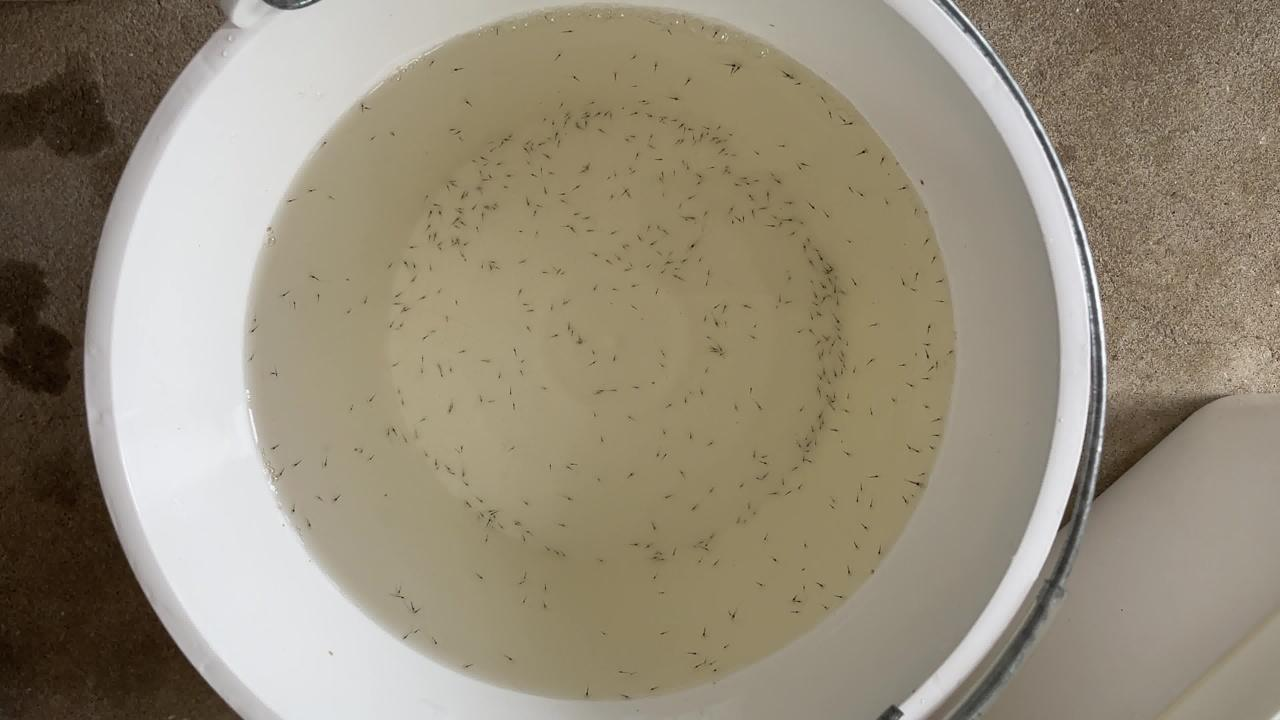shrimp: (684, 75, 696, 83), (649, 65, 661, 73), (627, 51, 639, 59), (631, 81, 643, 89), (672, 93, 684, 101), (634, 96, 646, 104), (645, 97, 657, 105), (643, 112, 655, 120), (631, 108, 643, 116), (619, 103, 631, 111), (605, 112, 617, 120), (603, 107, 615, 115), (595, 109, 607, 117), (588, 97, 600, 105), (580, 106, 592, 114), (582, 109, 594, 117), (582, 118, 594, 126), (596, 125, 608, 133), (575, 122, 587, 130), (565, 115, 577, 123), (564, 109, 576, 117), (559, 99, 571, 107), (562, 120, 574, 128), (548, 118, 560, 126), (540, 113, 552, 121), (551, 127, 563, 135), (554, 138, 566, 146), (545, 133, 557, 141), (538, 140, 550, 148), (540, 152, 552, 160), (529, 141, 541, 149), (521, 146, 533, 154), (523, 134, 535, 142), (506, 129, 518, 137), (502, 133, 514, 141), (500, 135, 512, 143), (487, 143, 499, 151), (492, 156, 504, 164), (502, 170, 514, 178), (501, 181, 513, 189), (483, 176, 495, 184), (487, 173, 499, 181), (477, 167, 489, 175), (483, 161, 495, 169), (482, 153, 494, 161), (470, 158, 482, 166), (523, 156, 535, 164), (536, 165, 548, 173), (545, 166, 557, 174), (529, 168, 541, 176), (541, 183, 553, 191), (536, 200, 548, 208), (533, 208, 545, 216), (524, 198, 536, 206), (581, 164, 593, 172), (577, 182, 589, 190), (560, 187, 572, 195), (559, 196, 571, 204), (570, 208, 582, 216), (581, 213, 593, 221), (584, 227, 596, 235), (570, 227, 582, 235), (565, 221, 577, 229), (534, 227, 546, 235), (514, 226, 526, 234), (494, 199, 506, 207), (491, 204, 503, 212), (486, 203, 498, 211), (476, 182, 488, 190), (465, 189, 477, 197), (460, 190, 472, 198), (451, 183, 463, 191), (451, 174, 463, 182), (442, 183, 454, 191), (469, 201, 481, 209), (478, 209, 490, 217), (474, 224, 486, 232), (458, 203, 470, 211), (455, 205, 467, 213), (453, 212, 465, 220), (461, 216, 473, 224), (454, 221, 466, 229), (433, 198, 445, 206), (436, 208, 448, 216), (422, 191, 434, 199), (425, 208, 437, 216), (423, 219, 435, 227), (423, 230, 435, 238), (430, 228, 442, 236), (434, 245, 446, 253), (434, 238, 446, 246), (463, 238, 475, 246), (454, 239, 466, 247), (454, 232, 466, 240), (449, 233, 461, 241), (455, 250, 467, 258), (519, 255, 531, 263), (490, 255, 502, 263), (496, 262, 508, 270), (488, 263, 500, 271), (476, 259, 488, 267), (611, 71, 623, 79), (571, 73, 583, 81), (554, 52, 566, 60), (565, 28, 577, 36), (651, 17, 663, 25), (664, 26, 676, 34), (711, 28, 723, 36), (697, 22, 709, 30), (681, 14, 693, 22), (606, 14, 618, 22), (583, 9, 595, 17), (493, 26, 505, 34), (452, 62, 464, 70), (463, 100, 475, 108), (455, 135, 467, 143), (456, 131, 468, 139), (451, 125, 463, 133), (426, 58, 438, 66), (358, 99, 370, 107), (364, 104, 376, 112), (387, 131, 399, 139), (369, 136, 381, 144), (320, 139, 332, 147), (662, 108, 674, 116), (660, 113, 672, 121), (670, 115, 682, 123), (674, 119, 686, 127), (678, 123, 690, 131), (687, 124, 699, 132), (700, 119, 712, 127), (714, 123, 726, 131), (727, 129, 739, 137), (730, 153, 742, 161), (723, 152, 735, 160), (719, 148, 731, 156), (714, 139, 726, 147), (714, 135, 726, 143), (695, 132, 707, 140), (678, 136, 690, 144), (674, 135, 686, 143), (646, 129, 658, 137), (628, 130, 640, 138), (623, 134, 635, 142), (644, 140, 656, 148), (630, 149, 642, 157), (654, 153, 666, 161), (632, 167, 644, 175), (627, 162, 639, 170), (615, 169, 627, 177), (603, 173, 615, 181), (620, 185, 632, 193), (623, 189, 635, 197), (605, 189, 617, 197), (658, 167, 670, 175), (658, 174, 670, 182), (677, 155, 689, 163), (681, 163, 693, 171), (692, 170, 704, 178), (696, 178, 708, 186), (668, 168, 680, 176), (686, 191, 698, 199), (700, 207, 712, 215), (675, 198, 687, 206), (689, 212, 701, 220), (681, 211, 693, 219), (686, 240, 698, 248), (694, 253, 706, 261), (703, 264, 715, 272), (705, 276, 717, 284), (686, 254, 698, 262), (751, 146, 763, 154), (775, 138, 787, 146), (804, 160, 816, 168), (792, 161, 804, 169), (776, 177, 788, 185), (766, 165, 778, 173), (752, 175, 764, 183), (738, 173, 750, 181), (724, 168, 736, 176), (723, 160, 735, 168), (708, 164, 720, 172), (731, 182, 743, 190), (744, 193, 756, 201), (762, 190, 774, 198), (759, 201, 771, 209), (749, 206, 761, 214), (739, 211, 751, 219), (735, 213, 747, 221), (728, 217, 740, 225), (724, 203, 736, 211), (762, 220, 774, 228), (768, 212, 780, 220), (783, 197, 795, 205), (803, 199, 815, 207), (823, 211, 835, 219), (800, 216, 812, 224), (789, 214, 801, 222), (776, 218, 788, 226), (787, 227, 799, 235), (803, 233, 815, 241), (795, 242, 807, 250), (812, 244, 824, 252), (816, 252, 828, 260), (809, 255, 821, 263), (828, 261, 840, 269), (819, 266, 831, 274), (842, 233, 854, 241), (851, 276, 863, 284), (823, 275, 835, 283), (829, 284, 841, 292), (837, 291, 849, 299), (817, 280, 829, 288), (803, 276, 815, 284), (809, 288, 821, 296), (819, 297, 831, 305), (834, 298, 846, 306), (809, 297, 821, 305), (814, 310, 826, 318), (805, 310, 817, 318), (835, 312, 847, 320), (833, 322, 845, 330), (832, 332, 844, 340), (839, 337, 851, 345), (828, 336, 840, 344), (820, 332, 832, 340), (811, 327, 823, 335), (796, 326, 808, 334), (810, 338, 822, 346), (843, 350, 855, 358), (836, 354, 848, 362), (849, 365, 861, 373), (864, 357, 876, 365), (825, 348, 837, 356), (817, 347, 829, 355), (811, 350, 823, 358), (827, 364, 839, 372), (817, 362, 829, 370), (814, 369, 826, 377), (825, 377, 837, 385), (865, 407, 877, 415), (846, 392, 858, 400), (844, 404, 856, 412), (829, 400, 841, 408), (830, 389, 842, 397), (824, 390, 836, 398), (814, 386, 826, 394), (814, 407, 826, 415), (800, 406, 812, 414), (816, 415, 828, 423), (815, 421, 827, 429), (826, 425, 838, 433), (781, 274, 793, 282), (782, 297, 794, 305), (774, 293, 786, 301), (774, 302, 786, 310), (742, 301, 754, 309), (755, 321, 767, 329), (751, 331, 763, 339), (721, 319, 733, 327), (720, 304, 732, 312), (714, 298, 726, 306), (712, 316, 724, 324), (700, 312, 712, 320), (678, 273, 690, 281), (675, 264, 687, 272), (680, 254, 692, 262), (664, 259, 676, 267), (661, 265, 673, 273), (654, 284, 666, 292), (661, 227, 673, 235), (656, 224, 668, 232), (645, 221, 657, 229), (649, 238, 661, 246), (657, 248, 669, 256), (635, 233, 647, 241), (643, 258, 655, 266), (624, 238, 636, 246), (620, 241, 632, 249), (608, 225, 620, 233), (615, 253, 627, 261), (625, 257, 637, 265), (623, 263, 635, 271), (602, 257, 614, 265), (593, 248, 605, 256), (627, 283, 639, 291), (628, 301, 640, 309), (612, 287, 624, 295), (591, 284, 603, 292), (561, 269, 573, 277), (554, 265, 566, 273), (547, 260, 559, 268), (540, 267, 552, 275), (565, 298, 577, 306), (547, 303, 559, 311), (528, 306, 540, 314), (521, 297, 533, 305), (517, 289, 529, 297), (562, 319, 574, 327), (567, 325, 579, 333), (574, 336, 586, 344), (552, 331, 564, 339), (525, 323, 537, 331), (511, 346, 523, 354), (516, 356, 528, 364), (517, 367, 529, 375), (538, 382, 550, 390), (589, 349, 601, 357), (589, 359, 601, 367), (612, 354, 624, 362), (658, 350, 670, 358), (660, 358, 672, 366), (651, 380, 663, 388), (634, 384, 646, 392), (606, 386, 618, 394), (600, 385, 612, 393), (595, 387, 607, 395), (590, 408, 602, 416), (625, 415, 637, 423), (597, 434, 609, 442), (705, 333, 717, 341), (716, 341, 728, 349), (720, 350, 732, 358), (712, 342, 724, 350), (711, 348, 723, 356), (701, 366, 713, 374), (696, 390, 708, 398), (679, 397, 691, 405), (665, 401, 677, 409), (748, 386, 760, 394), (755, 404, 767, 412), (733, 405, 745, 413), (708, 441, 720, 449), (687, 430, 699, 438), (660, 427, 672, 435), (650, 448, 662, 456), (661, 452, 673, 460), (675, 467, 687, 475), (708, 484, 720, 492), (693, 502, 705, 510), (666, 492, 678, 500), (628, 470, 640, 478), (748, 447, 760, 455), (763, 452, 775, 460), (760, 459, 772, 467), (759, 468, 771, 476), (755, 476, 767, 484), (740, 481, 752, 489), (807, 422, 819, 430), (815, 437, 827, 445), (806, 438, 818, 446), (802, 429, 814, 437), (794, 439, 806, 447), (804, 443, 816, 451), (807, 456, 819, 464), (799, 454, 811, 462), (791, 464, 803, 472), (795, 481, 807, 489), (783, 490, 795, 498), (781, 475, 793, 483), (771, 486, 783, 494), (747, 501, 759, 509), (752, 508, 764, 516), (745, 516, 757, 524), (736, 515, 748, 523), (763, 533, 775, 541), (773, 554, 785, 562), (752, 581, 764, 589), (710, 530, 722, 538), (697, 535, 709, 543), (705, 539, 717, 547), (705, 544, 717, 552), (699, 557, 711, 565), (714, 559, 726, 567), (658, 589, 670, 597), (651, 573, 663, 581), (668, 548, 680, 556), (660, 556, 672, 564), (648, 556, 660, 564), (656, 547, 668, 555), (642, 541, 654, 549), (652, 521, 664, 529), (631, 542, 643, 550), (594, 474, 606, 482), (569, 455, 581, 463), (566, 462, 578, 470), (549, 462, 561, 470), (564, 494, 576, 502), (559, 521, 571, 529), (599, 560, 611, 568), (562, 551, 574, 559), (556, 550, 568, 558), (545, 545, 557, 553), (542, 580, 554, 588), (541, 601, 553, 609), (521, 597, 533, 605), (515, 582, 527, 590), (520, 571, 532, 579), (519, 536, 531, 544), (522, 528, 534, 536), (521, 498, 533, 506), (512, 514, 524, 522), (511, 520, 523, 528), (496, 522, 508, 530), (482, 534, 494, 542), (484, 517, 496, 525), (491, 505, 503, 513), (484, 500, 496, 508), (491, 511, 503, 519), (479, 510, 491, 518), (470, 493, 482, 501), (466, 501, 478, 509), (508, 445, 520, 453), (509, 401, 521, 409), (505, 385, 517, 393), (495, 371, 507, 379), (481, 359, 493, 367), (451, 298, 463, 306), (432, 285, 444, 293), (422, 261, 434, 269), (410, 240, 422, 248), (407, 259, 419, 267), (400, 256, 412, 264), (384, 256, 396, 264), (407, 273, 419, 281), (415, 293, 427, 301), (437, 316, 449, 324), (454, 350, 466, 358), (474, 390, 486, 398), (485, 395, 497, 403), (445, 363, 457, 371), (434, 360, 446, 368), (436, 367, 448, 375), (445, 401, 457, 409), (415, 366, 427, 374), (419, 353, 431, 361), (419, 331, 431, 339), (428, 324, 440, 332), (407, 302, 419, 310), (400, 303, 412, 311), (393, 299, 405, 307), (394, 288, 406, 296), (397, 321, 409, 329), (386, 319, 398, 327), (389, 361, 401, 369), (395, 384, 407, 392), (396, 399, 408, 407), (417, 414, 429, 422), (411, 428, 423, 436), (403, 434, 415, 442), (390, 425, 402, 433), (383, 428, 395, 436), (367, 390, 379, 398), (457, 439, 469, 447), (452, 443, 464, 451), (460, 468, 472, 476), (463, 477, 475, 485), (450, 471, 462, 479), (444, 464, 456, 472), (435, 464, 447, 472), (434, 458, 446, 466), (423, 449, 435, 457), (365, 453, 377, 461), (355, 449, 367, 457), (350, 444, 362, 452), (321, 458, 333, 466), (331, 495, 343, 503), (314, 496, 326, 504), (305, 520, 317, 528), (288, 506, 300, 514), (291, 459, 303, 467), (270, 471, 282, 479), (271, 443, 283, 451), (348, 401, 360, 409), (271, 367, 283, 375), (246, 354, 258, 362), (250, 329, 262, 337), (250, 315, 262, 323), (277, 291, 289, 299), (288, 298, 300, 306), (313, 295, 325, 303), (345, 309, 357, 317), (356, 298, 368, 306), (348, 274, 360, 282), (309, 271, 321, 279), (325, 195, 337, 203), (309, 183, 321, 191), (286, 194, 298, 202), (725, 57, 737, 65), (725, 62, 737, 70), (731, 63, 743, 71), (783, 71, 795, 79), (796, 78, 808, 86), (817, 95, 829, 103), (824, 110, 836, 118), (835, 112, 847, 120), (847, 120, 859, 128), (858, 150, 870, 158), (874, 154, 886, 162), (896, 186, 908, 194), (878, 198, 890, 206), (862, 193, 874, 201), (848, 185, 860, 193), (910, 206, 922, 214), (921, 235, 933, 243), (928, 254, 940, 262), (935, 278, 947, 286), (935, 297, 947, 305), (912, 270, 924, 278), (912, 284, 924, 292), (899, 274, 911, 282), (869, 320, 881, 328), (923, 325, 935, 333), (923, 338, 935, 346), (919, 349, 931, 357), (944, 349, 956, 357), (937, 359, 949, 367), (927, 363, 939, 371), (900, 359, 912, 367), (921, 371, 933, 379), (905, 380, 917, 388), (889, 398, 901, 406), (922, 402, 934, 410), (933, 417, 945, 425), (934, 430, 946, 438), (930, 443, 942, 451), (912, 446, 924, 454), (902, 440, 914, 448), (920, 469, 932, 477), (912, 480, 924, 488), (898, 498, 910, 506), (872, 472, 884, 480), (843, 447, 855, 455), (870, 500, 882, 508), (856, 495, 868, 503), (855, 482, 867, 490), (831, 494, 843, 502), (830, 502, 842, 510), (859, 520, 871, 528), (879, 549, 891, 557), (852, 542, 864, 550), (843, 568, 855, 576), (837, 592, 849, 600), (823, 603, 835, 611), (818, 581, 830, 589), (803, 565, 815, 573), (799, 540, 811, 548), (799, 582, 811, 590), (792, 591, 804, 599), (795, 595, 807, 603), (789, 607, 801, 615), (732, 613, 744, 621), (726, 608, 738, 616), (700, 625, 712, 633), (726, 643, 738, 651), (713, 657, 725, 665), (711, 669, 723, 677), (701, 656, 713, 664), (695, 663, 707, 671), (690, 648, 702, 656), (664, 631, 676, 639), (601, 629, 613, 637), (475, 571, 487, 579), (378, 488, 390, 496), (395, 581, 407, 589), (392, 590, 404, 598), (406, 598, 418, 606), (413, 603, 425, 611), (411, 624, 423, 632), (430, 637, 442, 645), (400, 632, 412, 640), (463, 662, 475, 670), (503, 655, 515, 663), (616, 668, 628, 676), (628, 668, 640, 676), (645, 684, 657, 692), (623, 693, 635, 701), (580, 688, 592, 696), (869, 568, 881, 576)
